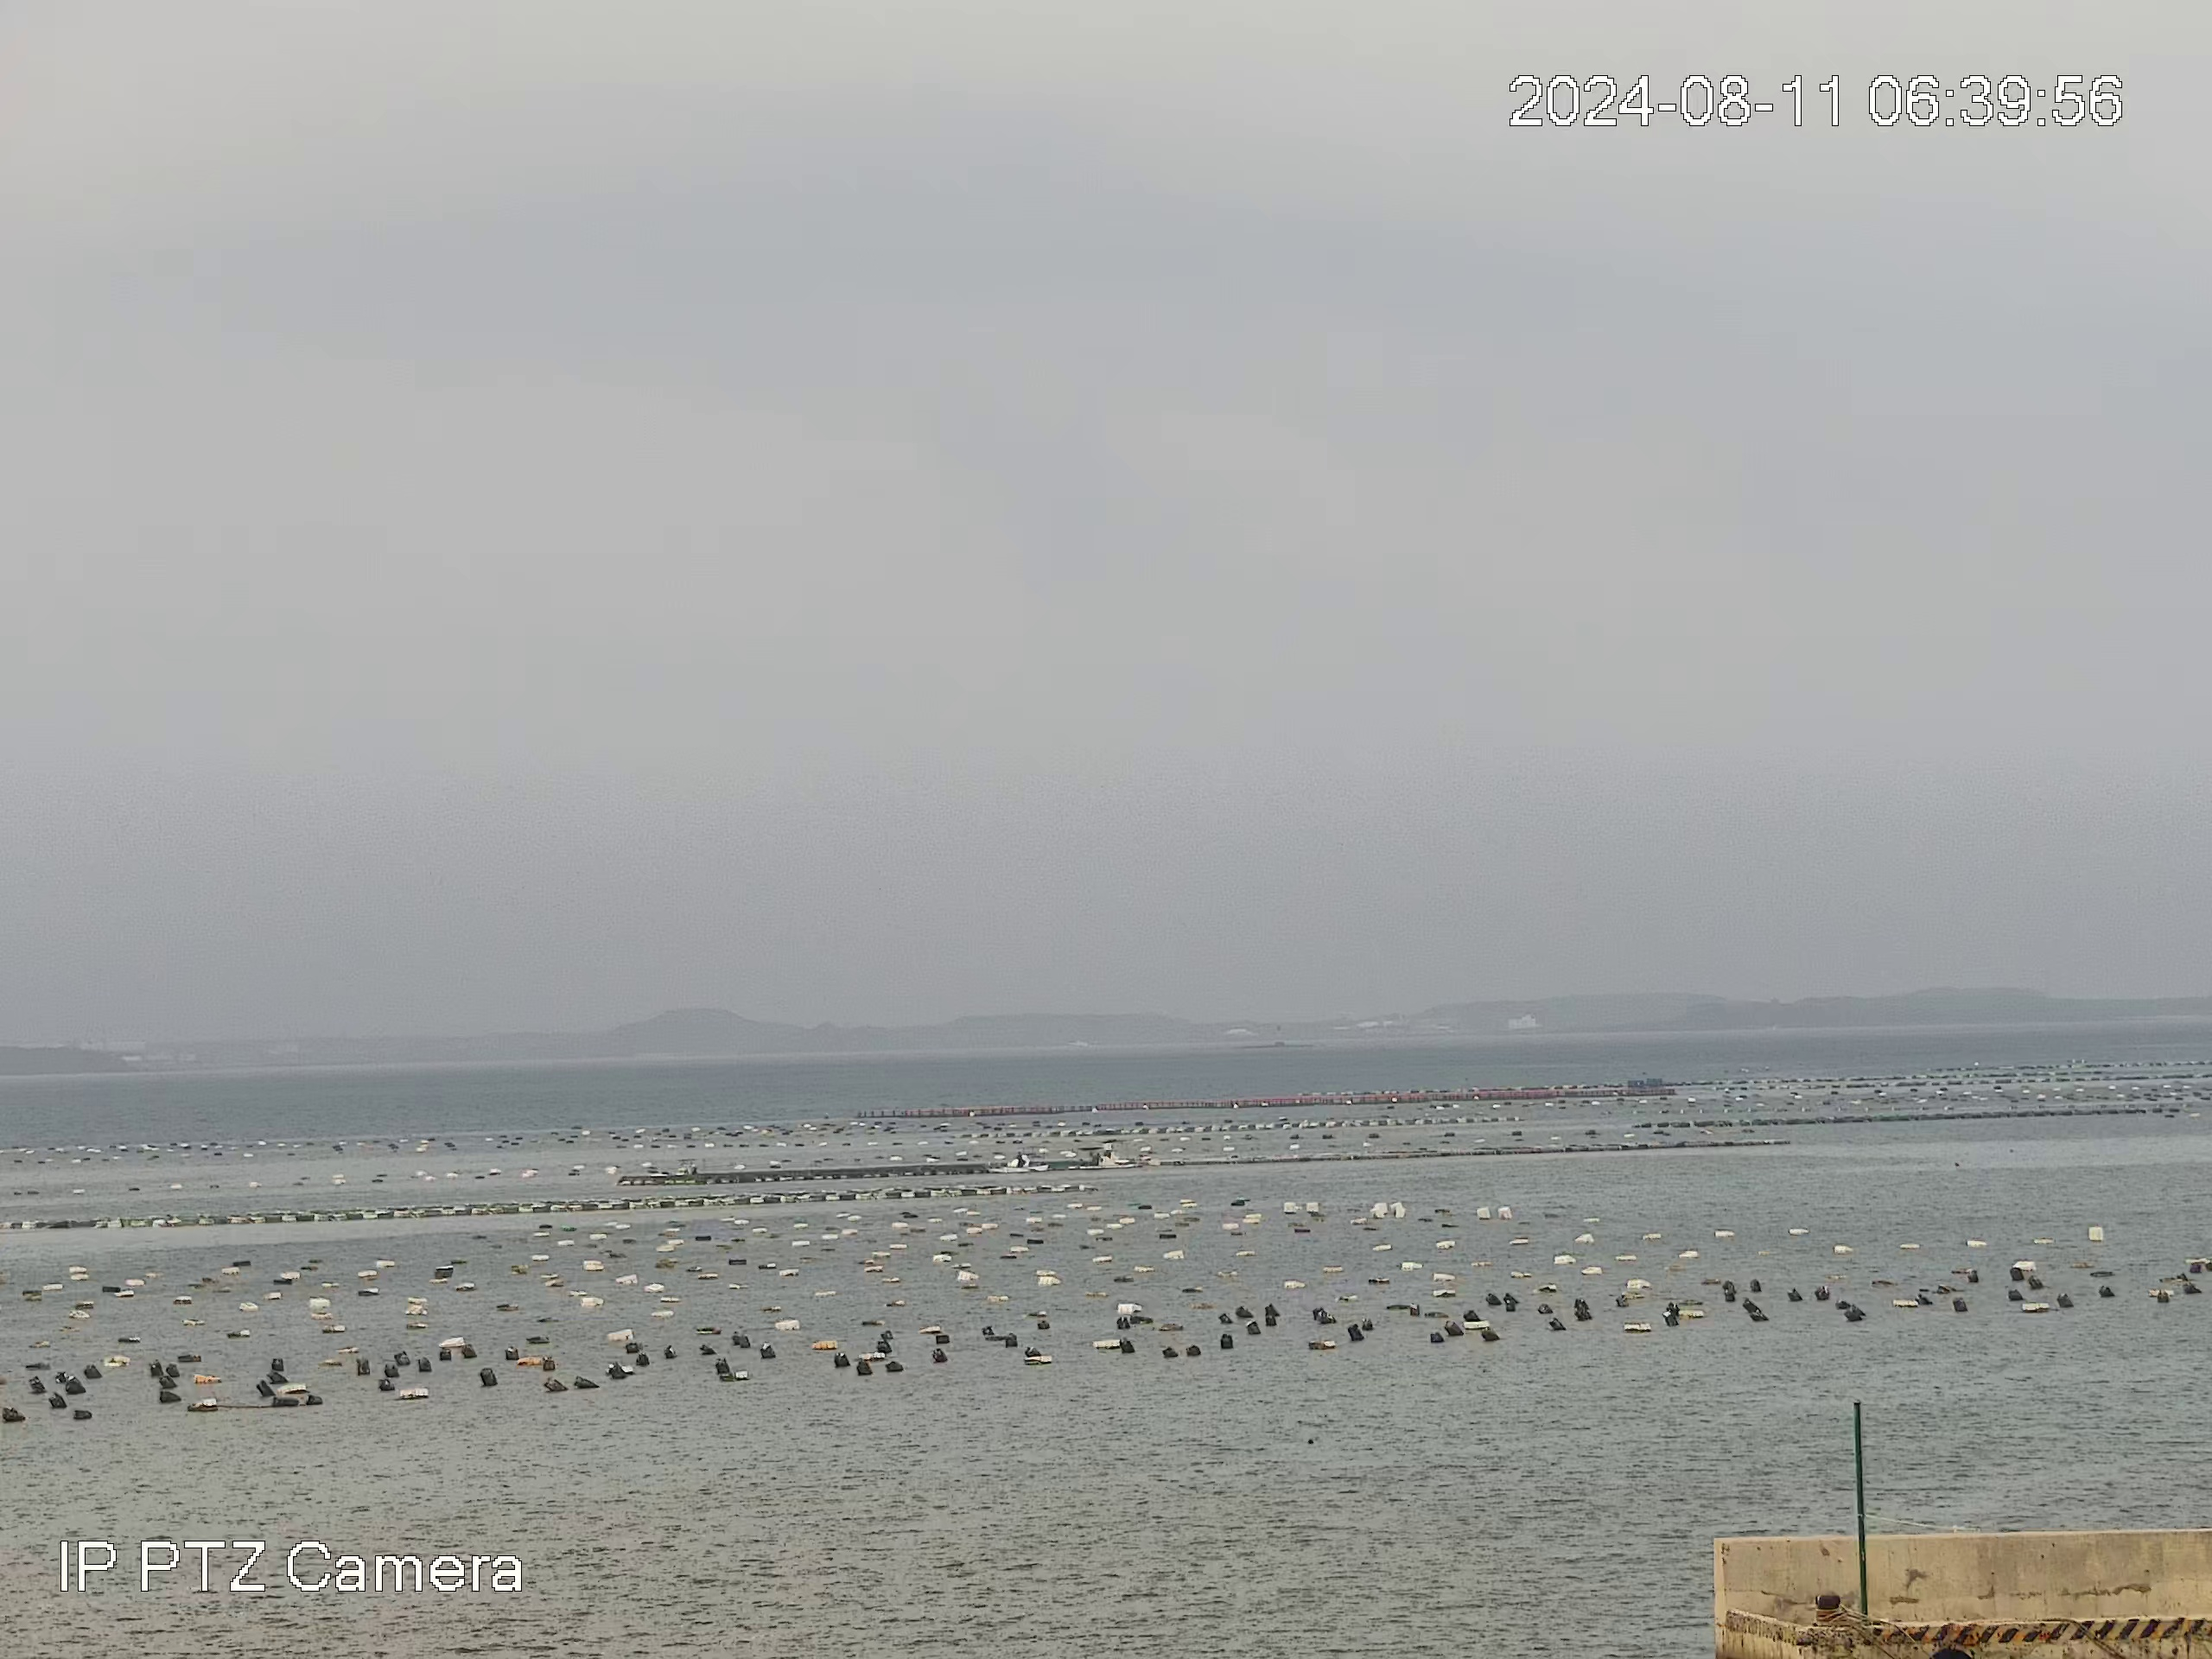boat: (1066, 1143, 1125, 1169), (986, 1154, 1050, 1175)
